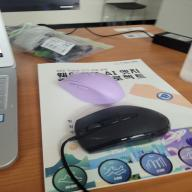mouse: (67, 107, 176, 152), (50, 65, 134, 105)
